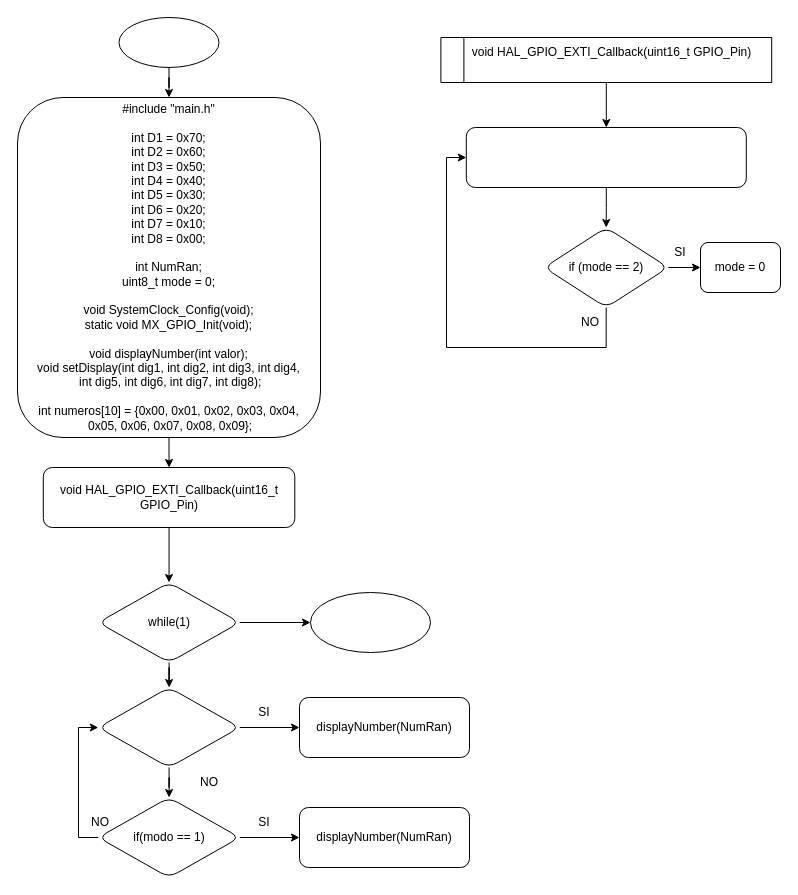
This 798x895 diagram has some shape labels left out. The centre of each missing label's shape, as x and y in pixels:
"END" belongs at point 370,622.
"if(modo == 0)" belongs at point 168,727.
"NumRan = (rand() % (99999999 - 10000000 + 1)) + 1000000; mode = mode + 1;" belongs at point 605,157.
"START" belongs at point 168,42.
